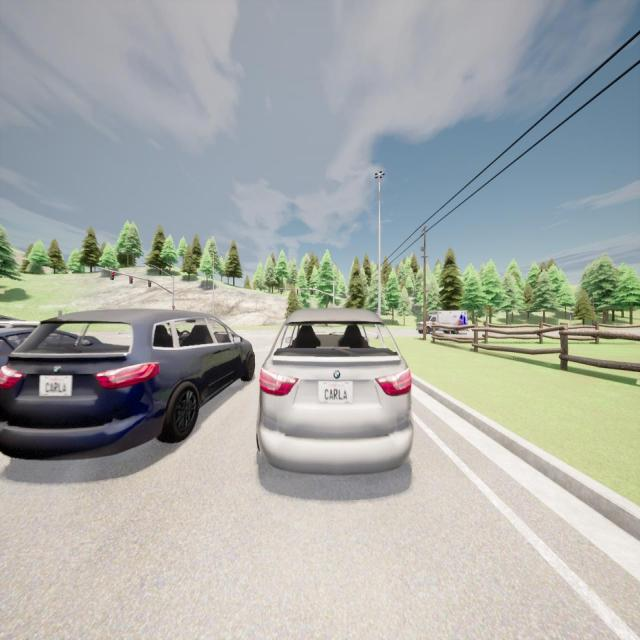Vehicle: (0, 303, 254, 459), (256, 309, 413, 474), (0, 327, 102, 364), (415, 310, 467, 334), (0, 312, 40, 324)
traffic_light: (111, 271, 114, 280), (130, 276, 132, 284), (149, 281, 151, 287), (311, 290, 313, 295), (280, 290, 282, 294), (297, 290, 298, 294)
